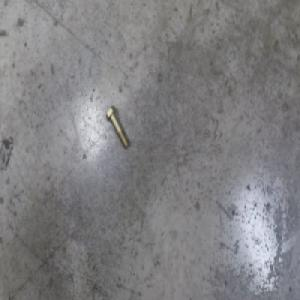Bolt: (107, 105, 131, 150)
